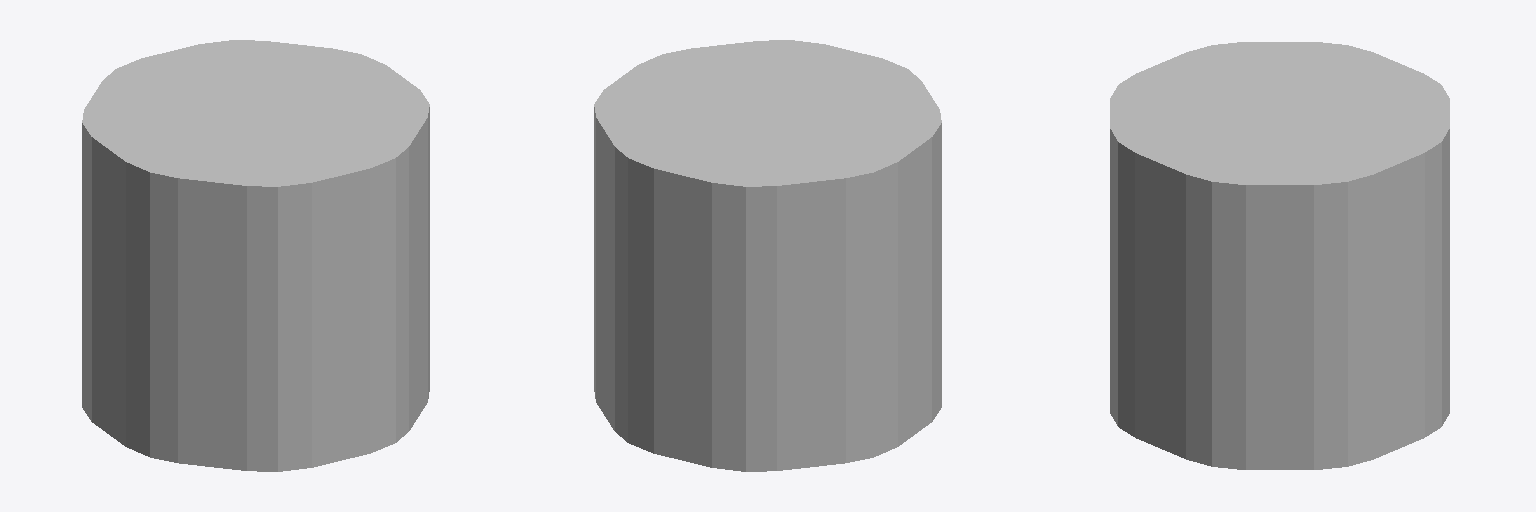
Rendered from laser_collision.obj.
3 views of the same model, side by side, from view 1: azimuth 30°, elevation 25°; view 2: azimuth 150°, elevation 25°; view 3: azimuth 270°, elevation 25° (orthographic).
Bounding box in the file's own units: 0.04 × 0.037 × 0.04.